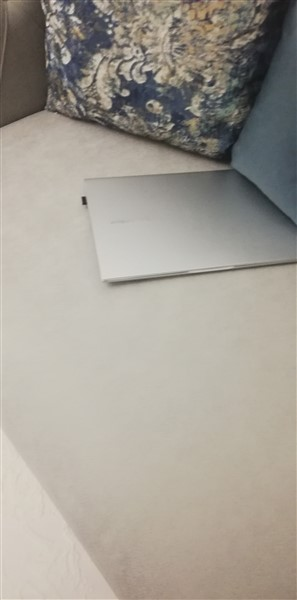laptop: (76, 162, 297, 292)
